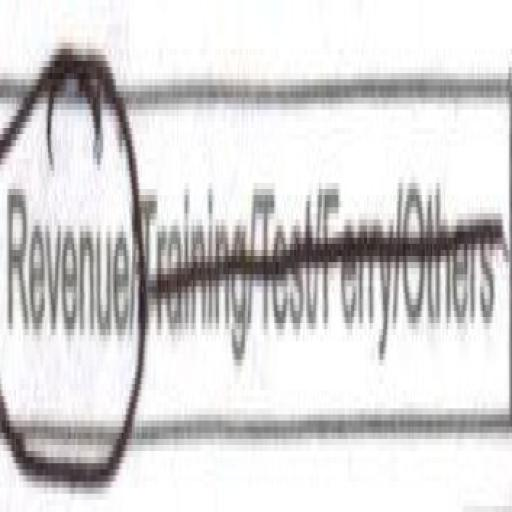check: (0, 30, 135, 476)
